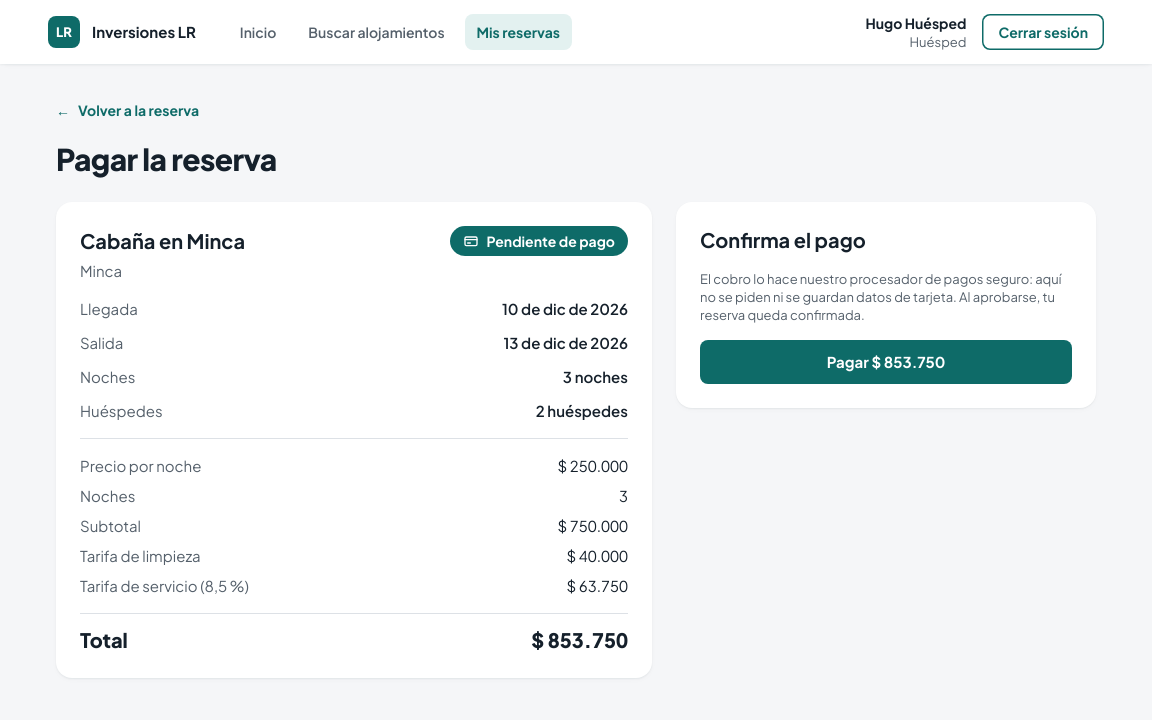
Test: pago de la reserva › desenlaces › 200: el cobro se aprobó, la reserva queda confirmada y se muestra en su detalle
This screenshot has width=1152, height=720.
Expected: the heading "Cabaña en Minca" is shown, top-left (80, 227), bottom-right (245, 255)
Click the button "Pagar $ 853.750": click(886, 362) top-left (700, 340), bottom-right (1072, 384)
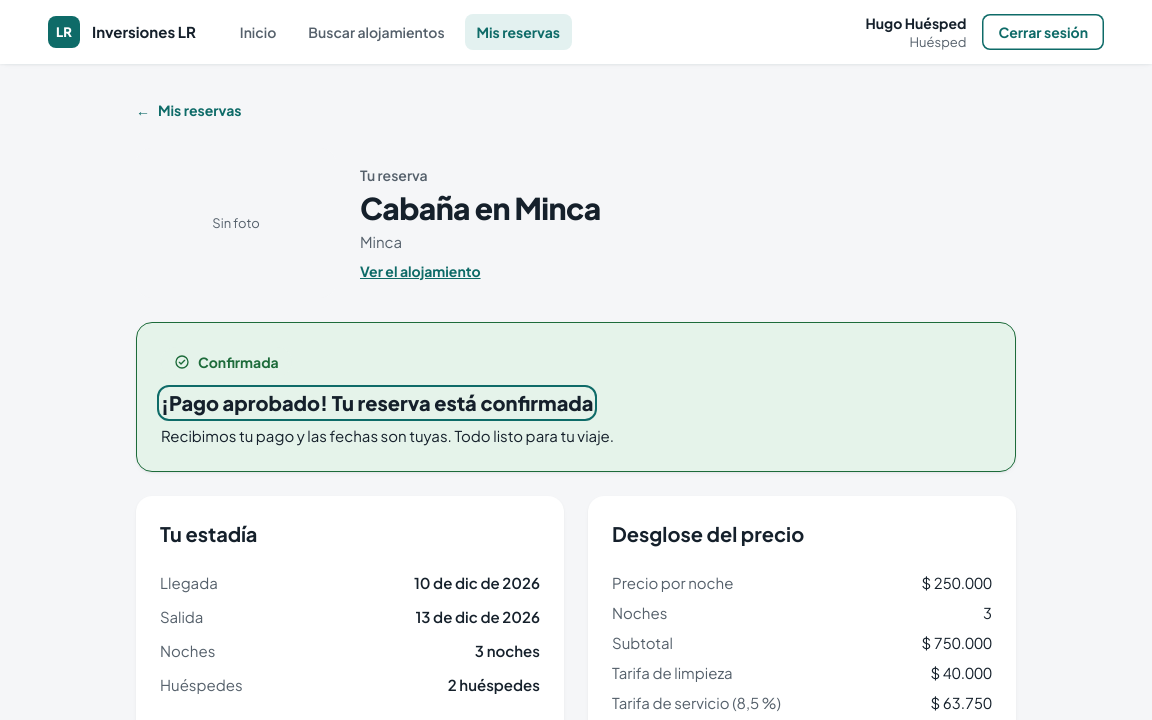
Result: the text "Confirmada" is shown at top-left (161, 347), bottom-right (292, 377)
